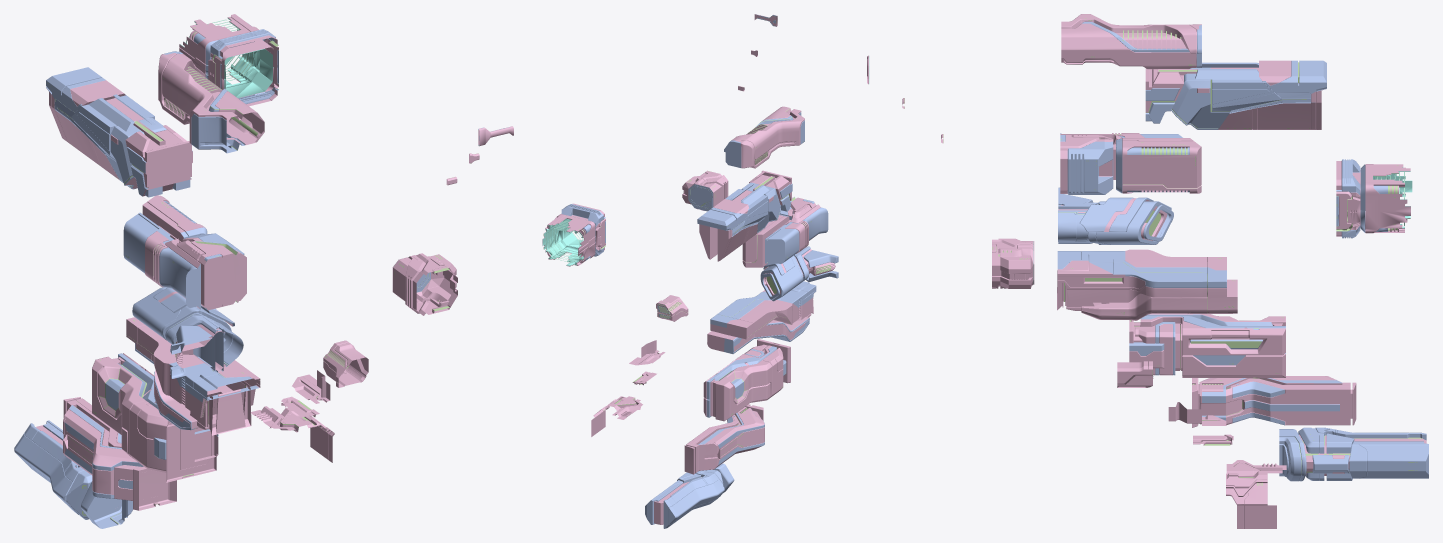
Rendered from aether-city.glb.
3 renders of one model, left to right at view 1: azimuth 30°, elevation 25°; view 2: azimuth 150°, elevation 25°; view 3: azimuth 270°, elevation 25°, orthographic. The views are drawn at different scales.
Parts seen in each view (by area): view 1: Tower_02_ARM, Tower_03_ARM, Tower_06_ARM, Tower_05_ARM, Tower_01_ARM, Tower_07_ARM, Tower_Construction_ARM, Tower_04_ARM, Tower_08_ARM, Tower_Top_01_ARM, Tower_Wall_03_ARM, Tower_Top_02_ARM (+1 smaller); view 2: Tower_05_ARM, Tower_02_ARM, Tower_06_ARM, Tower_03_ARM, Tower_07_ARM, Tower_Construction_ARM, Tower_08_ARM, Tower_01_ARM, Tower_04_ARM, Tower_Top_01_ARM, Tower_Wall_03_ARM, Tower_Top_02_ARM (+1 smaller); view 3: Tower_02_ARM, Tower_05_ARM, Tower_06_ARM, Tower_03_ARM, Tower_08_ARM, Tower_07_ARM, Tower_01_ARM, Tower_04_ARM, Tower_Construction_ARM, Tower_Wall_03_ARM, Tower_Top_01_ARM, Tower_Top_02_ARM (+1 smaller).
Boxes of the visible parts, <box> form: Tower_02_ARM: <box>46,67,192,197</box>; Tower_03_ARM: <box>123,195,246,310</box>; Tower_06_ARM: <box>92,353,218,482</box>; Tower_05_ARM: <box>126,317,260,435</box>; Tower_01_ARM: <box>158,51,264,153</box>; Tower_07_ARM: <box>63,397,176,510</box>; Tower_Construction_ARM: <box>179,14,278,106</box>; Tower_04_ARM: <box>132,287,243,378</box>; Tower_08_ARM: <box>14,420,132,528</box>; Tower_Top_01_ARM: <box>392,253,457,315</box>; Tower_Wall_03_ARM: <box>251,406,334,462</box>; Tower_Top_02_ARM: <box>323,340,368,387</box>; Tower_05_ARM: <box>707,281,816,353</box>; Tower_02_ARM: <box>697,170,792,261</box>; Tower_06_ARM: <box>703,339,790,421</box>; Tower_03_ARM: <box>742,197,828,267</box>; Tower_07_ARM: <box>684,404,764,474</box>; Tower_Construction_ARM: <box>542,203,605,266</box>; Tower_08_ARM: <box>645,463,734,528</box>; Tower_01_ARM: <box>724,106,804,168</box>; Tower_04_ARM: <box>760,246,838,301</box>; Tower_Top_01_ARM: <box>682,170,728,211</box>; Tower_Wall_03_ARM: <box>591,396,642,436</box>; Tower_Top_02_ARM: <box>656,295,688,321</box>; Tower_02_ARM: <box>1145,60,1326,129</box>; Tower_05_ARM: <box>1057,249,1237,320</box>; Tower_06_ARM: <box>1129,313,1285,377</box>; Tower_03_ARM: <box>1060,133,1201,194</box>; Tower_08_ARM: <box>1279,427,1428,481</box>; Tower_07_ARM: <box>1192,376,1356,427</box>; Tower_01_ARM: <box>1061,14,1201,69</box>; Tower_04_ARM: <box>1058,187,1173,244</box>; Tower_Construction_ARM: <box>1336,159,1412,238</box>; Tower_Wall_03_ARM: <box>1226,460,1286,528</box>; Tower_Top_01_ARM: <box>992,238,1034,288</box>; Tower_Top_02_ARM: <box>1117,361,1153,387</box>.
Bounding box in the file's own units: 22.27 × 43.09 × 46.
